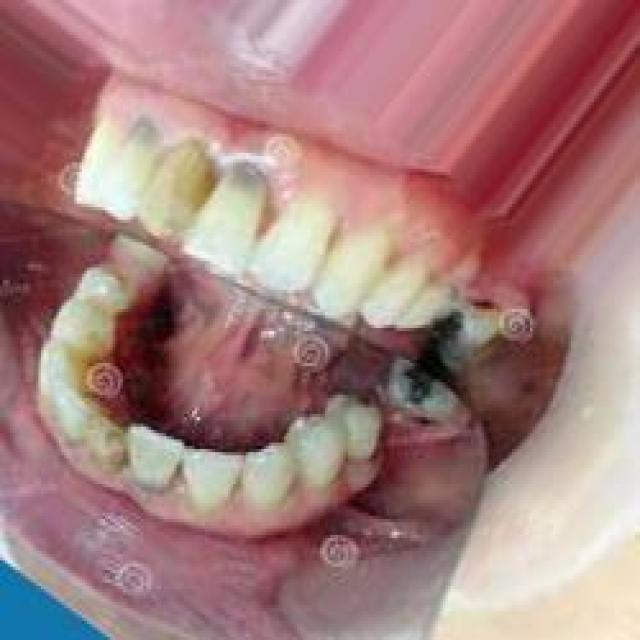caries: (424, 302, 478, 374), (383, 358, 440, 418), (84, 413, 131, 477)
